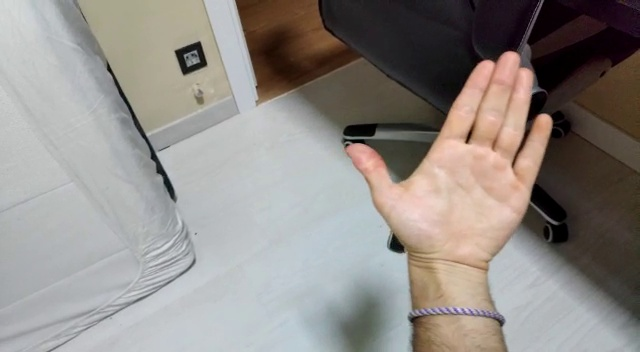Palm: (344, 49, 558, 284)
